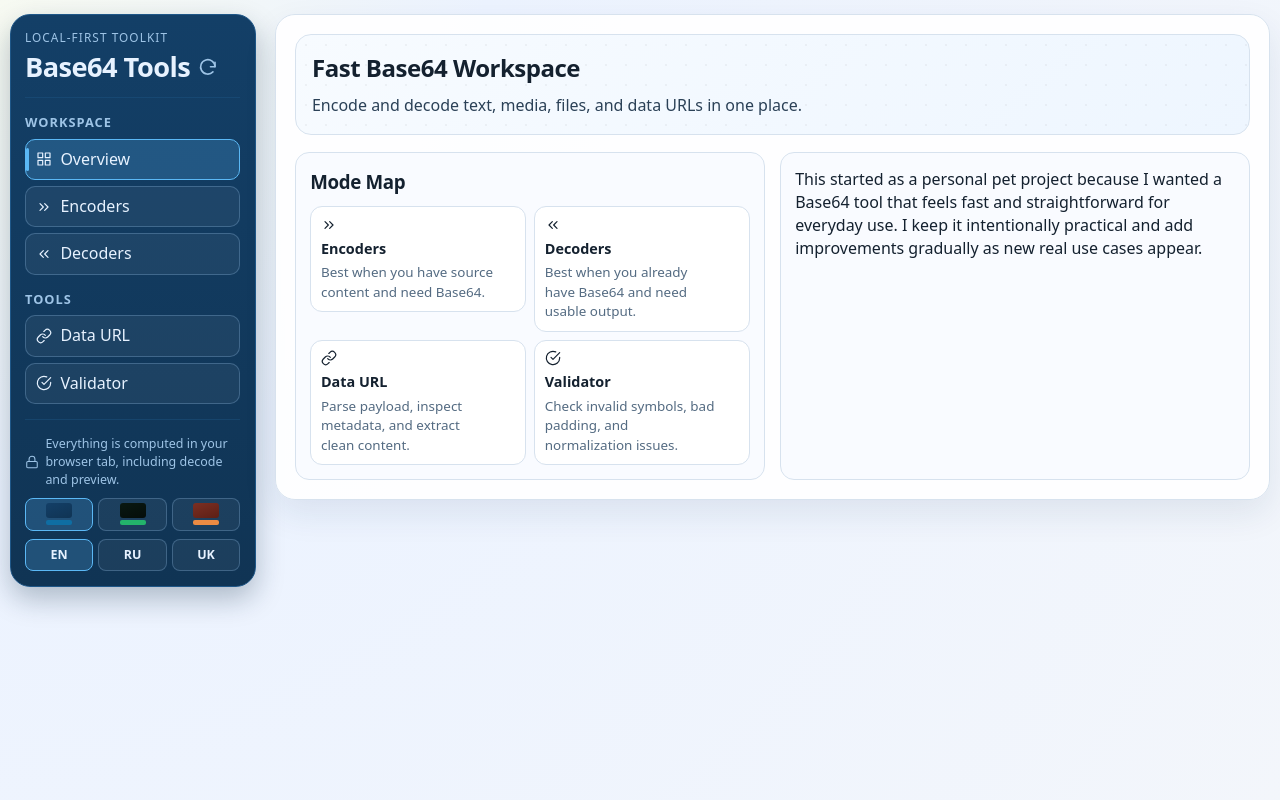
it: App routing › switches locale to ukrainian and persists it
This screenshot has width=1280, height=800.
Click the radio button with aria-label "Ukrainian".
click(206, 555)  # box left=172, top=539, right=240, bottom=571
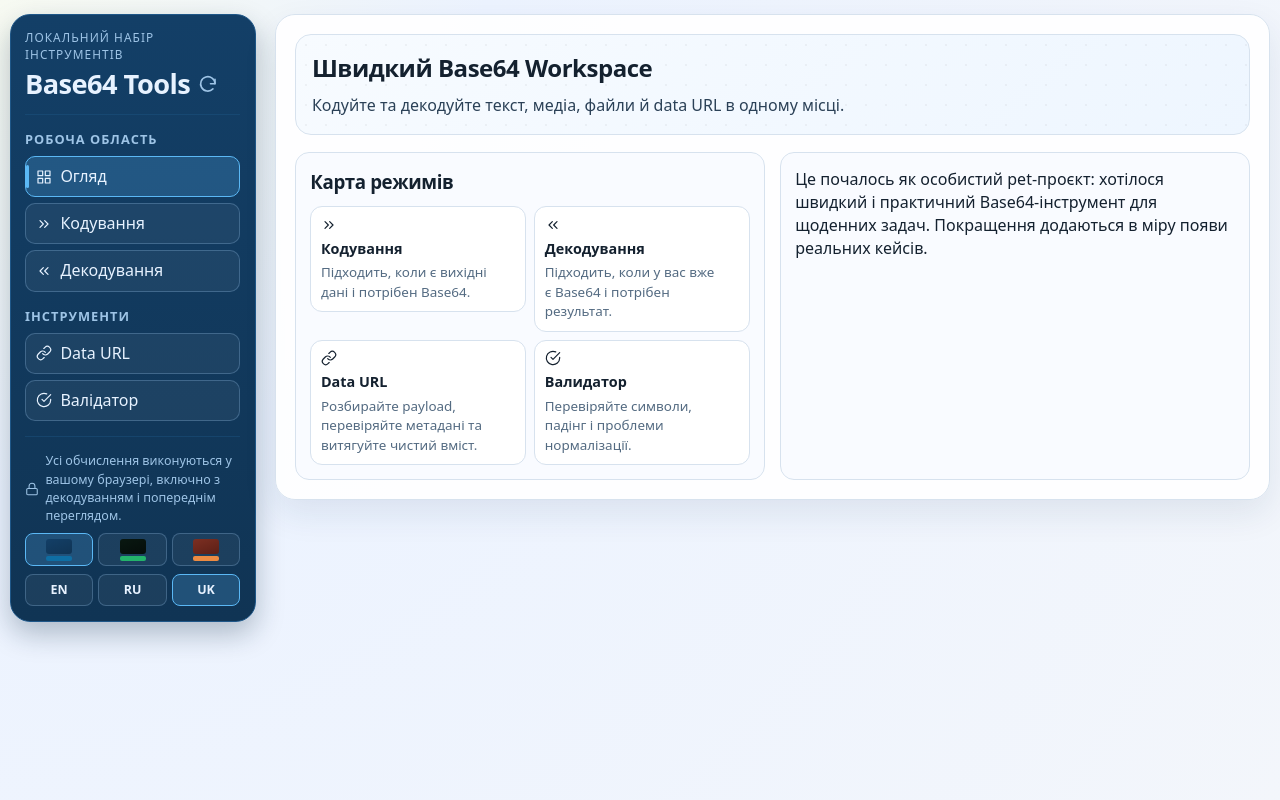
Expected: the heading "Швидкий Base64 Workspace" is shown, left=312, top=51, right=652, bottom=84
